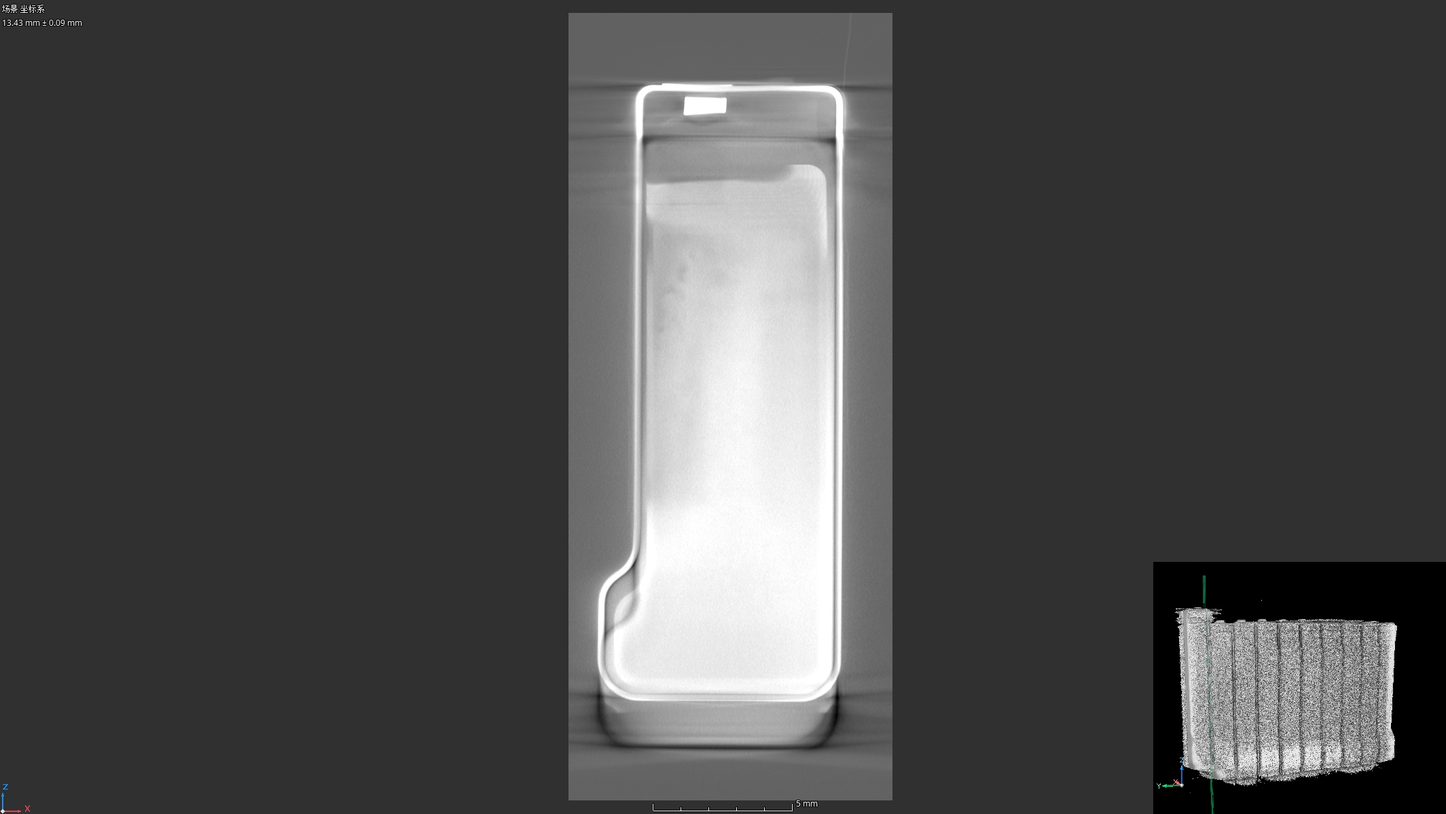dark: (671, 253, 693, 286)
